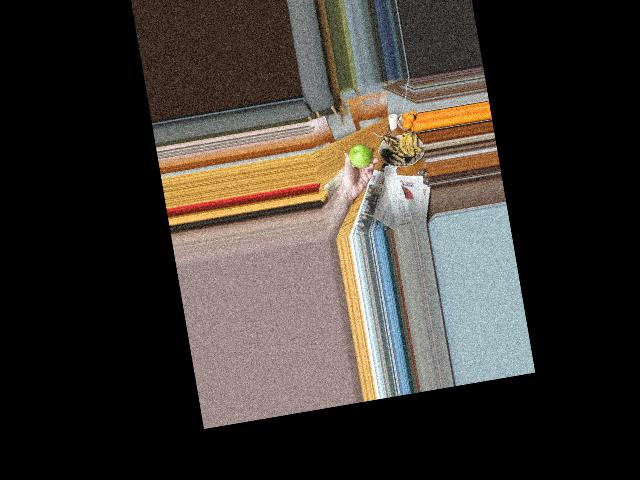apple: (345, 139, 375, 173)
